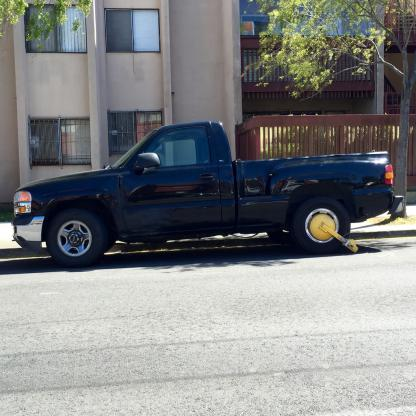Truck: (11, 121, 404, 268)
